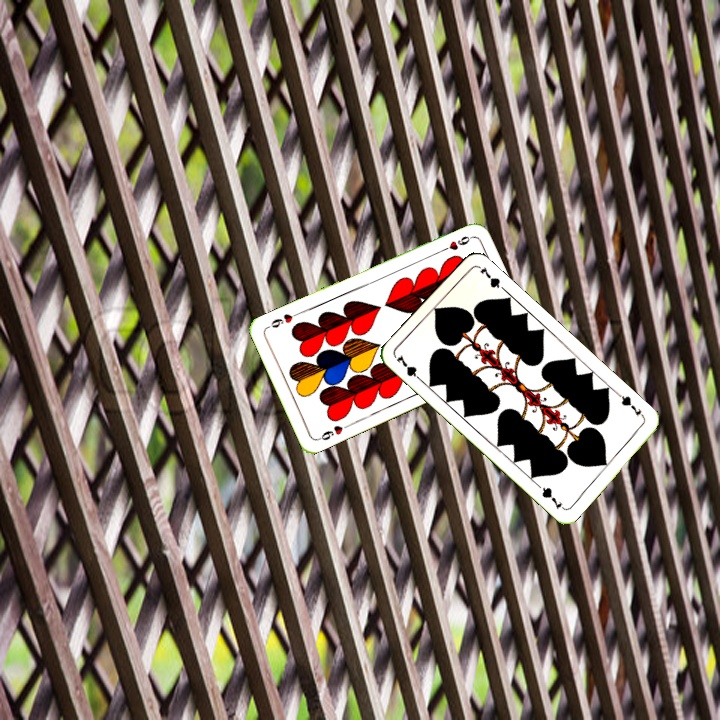G7: (392, 351, 426, 385), (614, 390, 647, 421)
H9: (314, 420, 352, 443), (436, 232, 474, 255)
